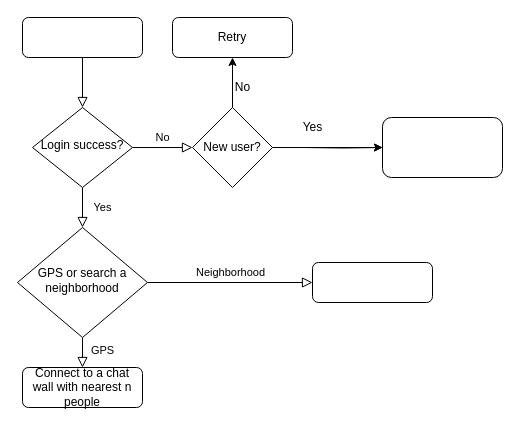
Image size: 520x426. Some labels were removed from this diagram. Here are the shapes that lost their labels. From the top down, the centre of each, then its label:
At [82,37]: "User".
At [442,147]: "Register".
At [372,282]: "Connect to that particular neighborhood's page".
